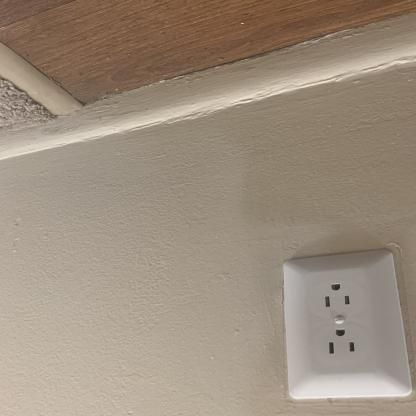OUTLET: (281, 246, 413, 401)
